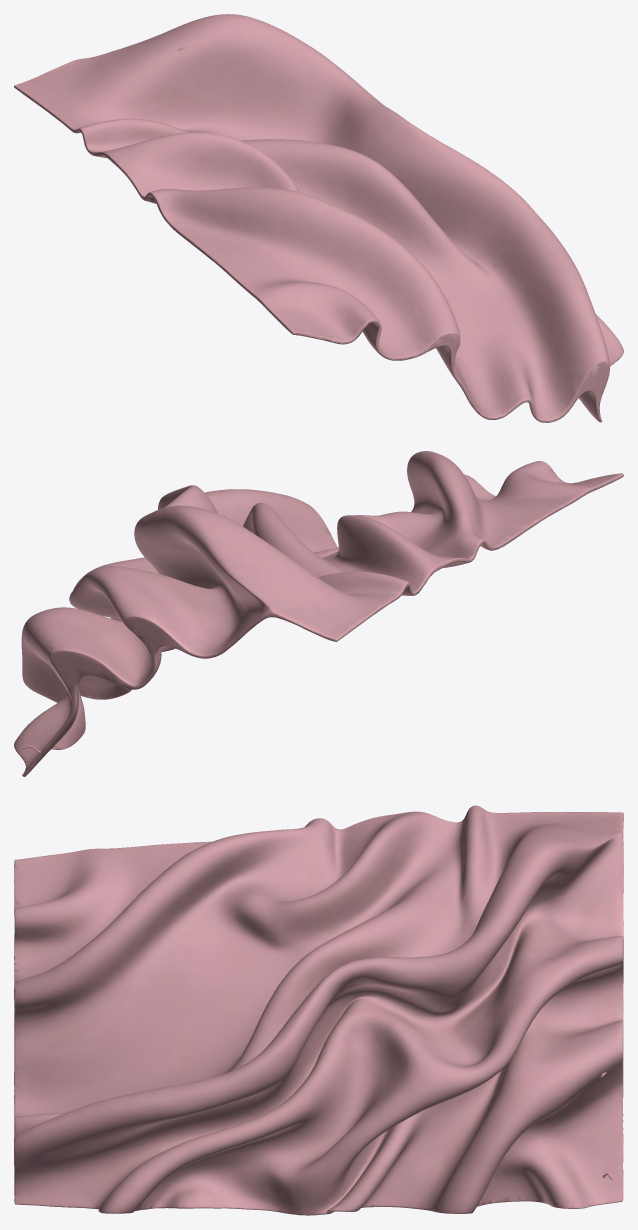
3 renders of one model, top to bottom at view 1: azimuth 30°, elevation 25°; view 2: azimuth 150°, elevation 25°; view 3: azimuth 270°, elevation 25°, orthographic. The views are drawn at different scales.
Visible parts, largest first — view 1: Object_01; view 2: Object_01; view 3: Object_01.
Boxes of the visible parts, bbox=[...] form: Object_01: bbox=[14, 14, 623, 422]; Object_01: bbox=[14, 451, 623, 776]; Object_01: bbox=[14, 805, 623, 1215].
Size of the model in its own units: 0.7835 by 0.5186 by 1.
1 material, 1 textured.
